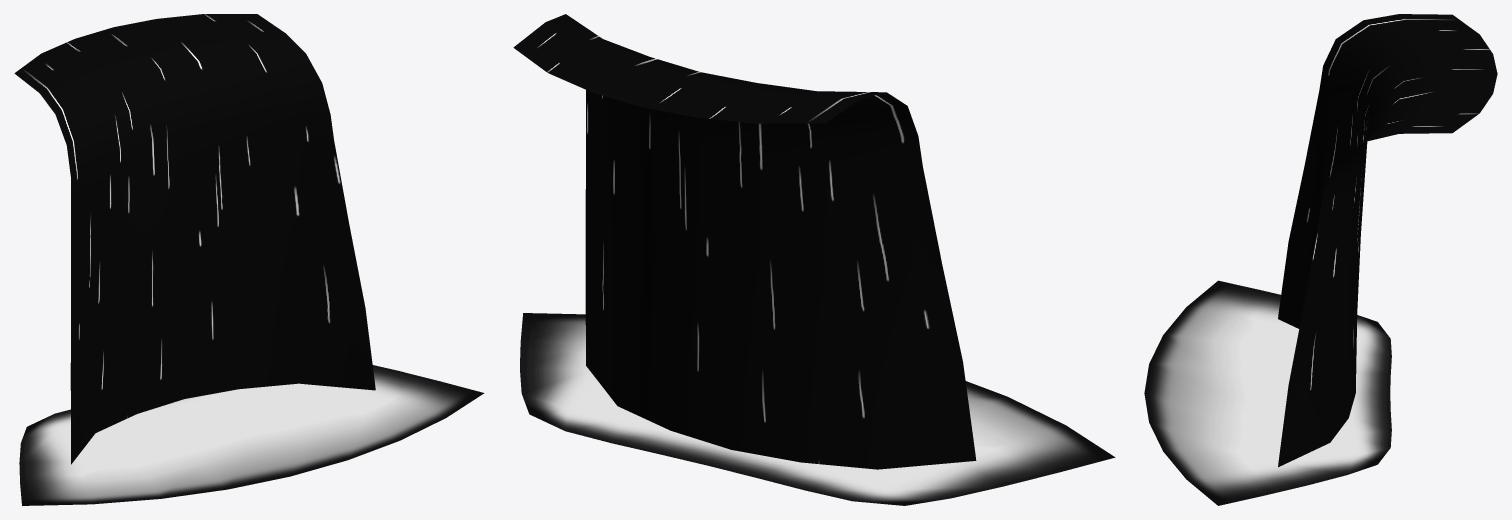
Rendered from P_Waterfall7.obj.
The picture shows the model from 3 angles, left to right: view 1: azimuth 30°, elevation 25°; view 2: azimuth 150°, elevation 25°; view 3: azimuth 270°, elevation 25°; orthographic projection. The views are drawn at different scales.
Bounding box in the file's own units: 27.36 × 18.18 × 18.12.
